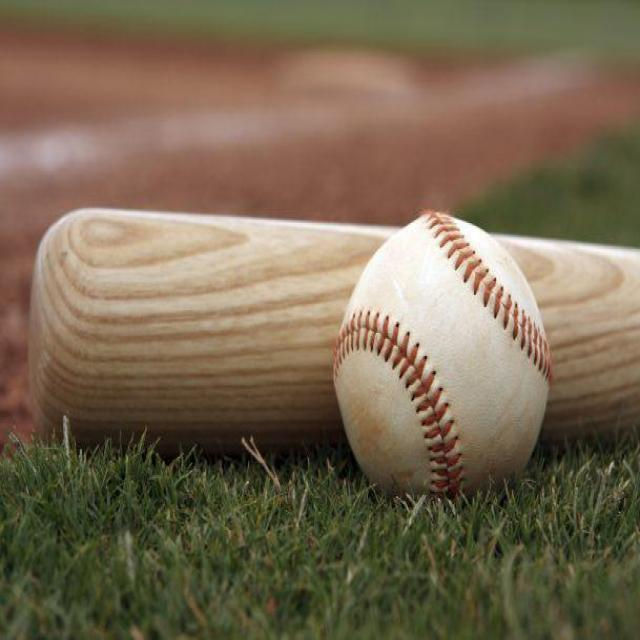baseball: (332, 214, 553, 502)
